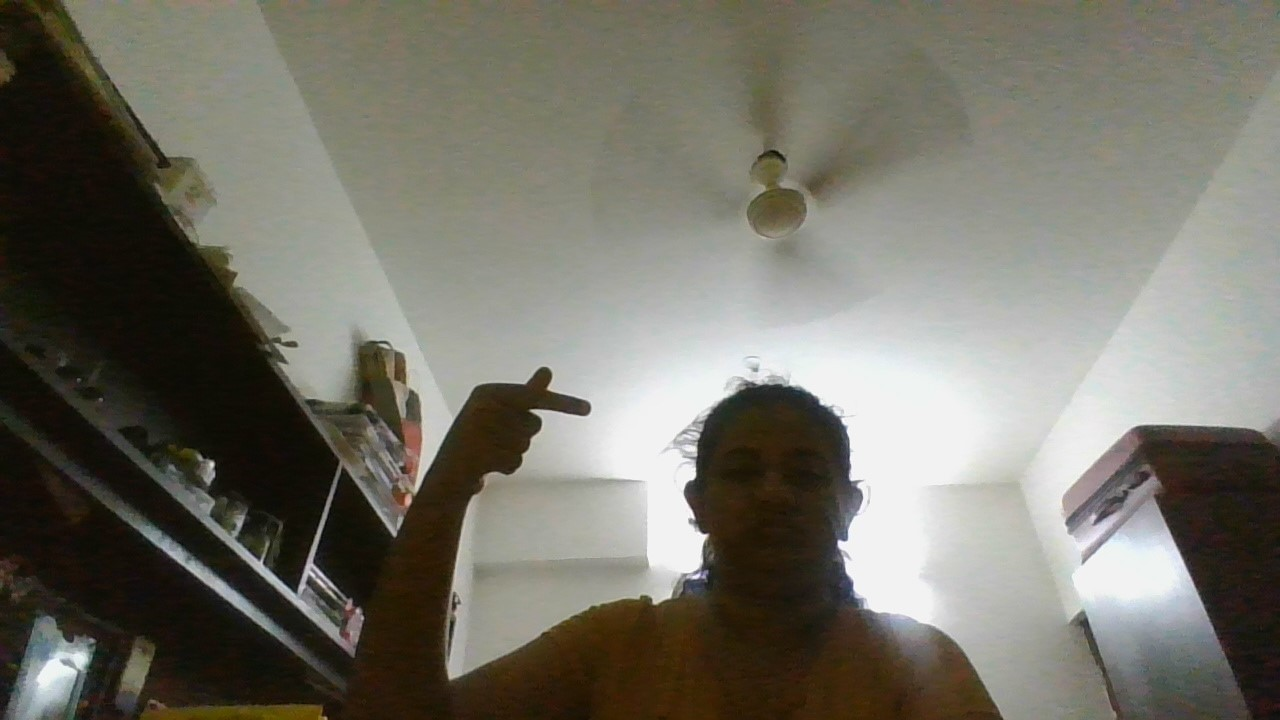g: (434, 360, 599, 495)
